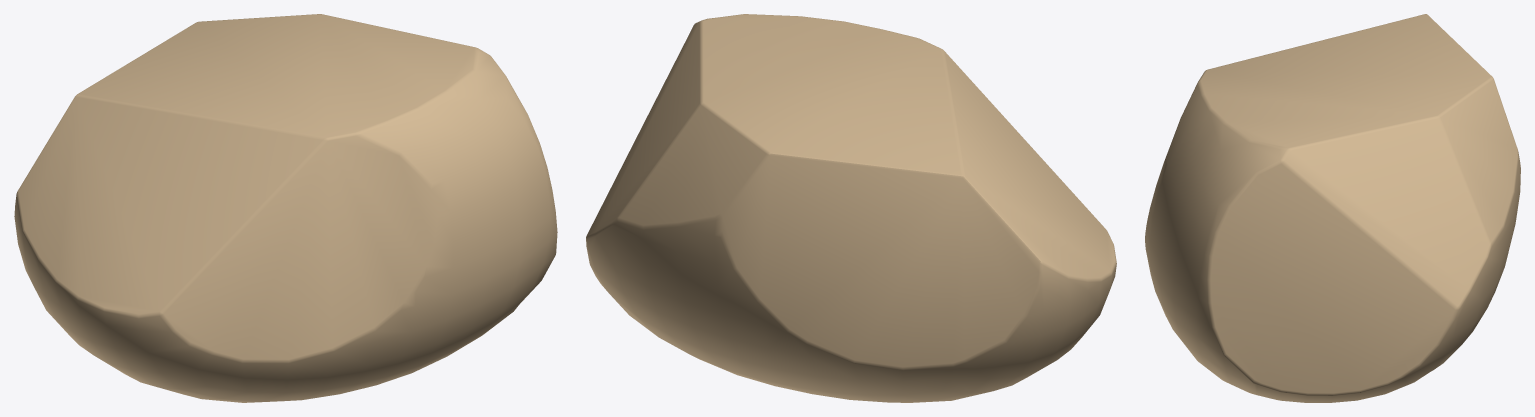
The model's file is rock_boulder_02.glb.
3 renders of one model, left to right at view 1: azimuth 30°, elevation 25°; view 2: azimuth 150°, elevation 25°; view 3: azimuth 270°, elevation 25°, orthographic. The views are drawn at different scales.
Visible parts, largest first — view 1: rock_boulder_02; view 2: rock_boulder_02; view 3: rock_boulder_02.
Boxes of the visible parts, x1=… form: rock_boulder_02: x1=14, y1=14, x2=557, y2=402; rock_boulder_02: x1=586, y1=14, x2=1116, y2=402; rock_boulder_02: x1=1145, y1=14, x2=1520, y2=402.
Bounding box in the file's own units: 2.5 × 1.54 × 1.85.
